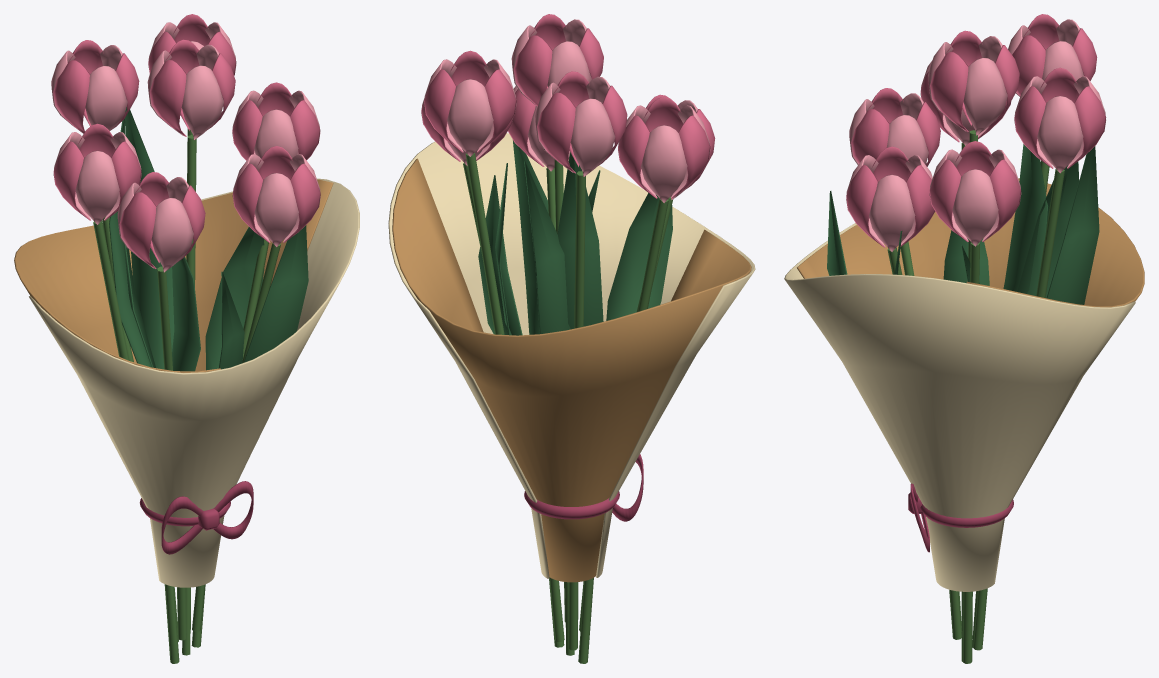
File: P008_tulip_bouquet_rebuilt.glb
The picture shows the model from 3 angles, left to right: view 1: azimuth 30°, elevation 25°; view 2: azimuth 150°, elevation 25°; view 3: azimuth 270°, elevation 25°; orthographic projection. The views are drawn at different scales.
Visible parts, largest first — view 1: Bouquet_pale_inner_wrapping, Tulip_pink_petals, Tulip_pale_inner_petals, Tulip_broad_waxy_leaves, Bouquet_kraft_wrapping, Tulip_living_stems, Bouquet_rose_satin_tie; view 2: Bouquet_kraft_wrapping, Bouquet_pale_inner_wrapping, Tulip_broad_waxy_leaves, Tulip_pink_petals, Tulip_pale_inner_petals, Tulip_living_stems, Bouquet_rose_satin_tie; view 3: Bouquet_pale_inner_wrapping, Tulip_pink_petals, Tulip_pale_inner_petals, Tulip_broad_waxy_leaves, Bouquet_kraft_wrapping, Tulip_living_stems, Bouquet_rose_satin_tie.
Part boxes in pixels (x1,y1,x2,y2): Bouquet_pale_inner_wrapping: (29,178,359,587); Tulip_pink_petals: (53,14,320,268); Tulip_pale_inner_petals: (51,22,320,272); Tulip_broad_waxy_leaves: (109,107,308,371); Bouquet_kraft_wrapping: (14,179,333,372); Tulip_living_stems: (93,128,280,663); Bouquet_rose_satin_tie: (139,481,253,554); Bouquet_kraft_wrapping: (392,158,751,582); Bouquet_pale_inner_wrapping: (388,133,755,578); Tulip_broad_waxy_leaves: (478,140,672,335); Tulip_pink_petals: (421,14,715,198); Tulip_pale_inner_petals: (421,19,710,202); Tulip_living_stems: (463,153,673,663); Bouquet_rose_satin_tie: (524,454,643,521); Bouquet_pale_inner_wrapping: (784,223,1135,591); Tulip_pink_petals: (846,14,1106,247); Tulip_pale_inner_petals: (846,19,1106,251); Tulip_broad_waxy_leaves: (827,144,1099,304); Bouquet_kraft_wrapping: (797,178,1144,307); Tulip_living_stems: (887,130,1064,663); Bouquet_rose_satin_tie: (908,483,1013,552).
Bounding box in the file's own units: 0.2446 × 0.4662 × 0.2423.
